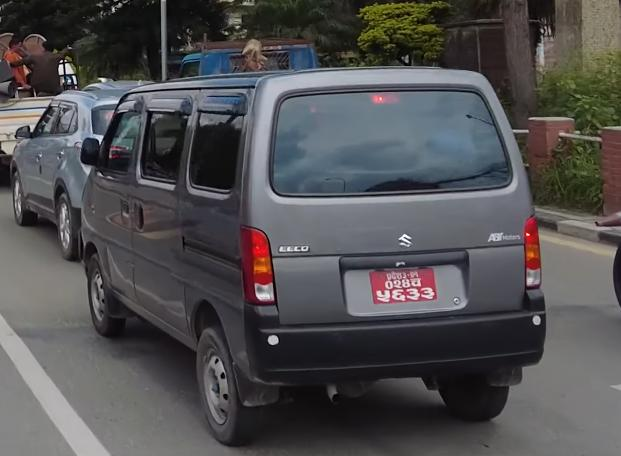van: (76, 64, 553, 449)
